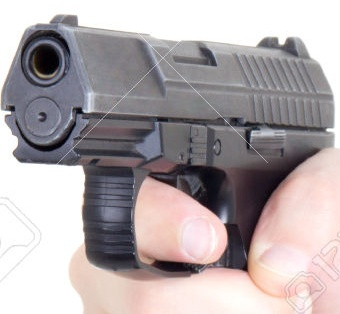pistol: (4, 13, 340, 274)
